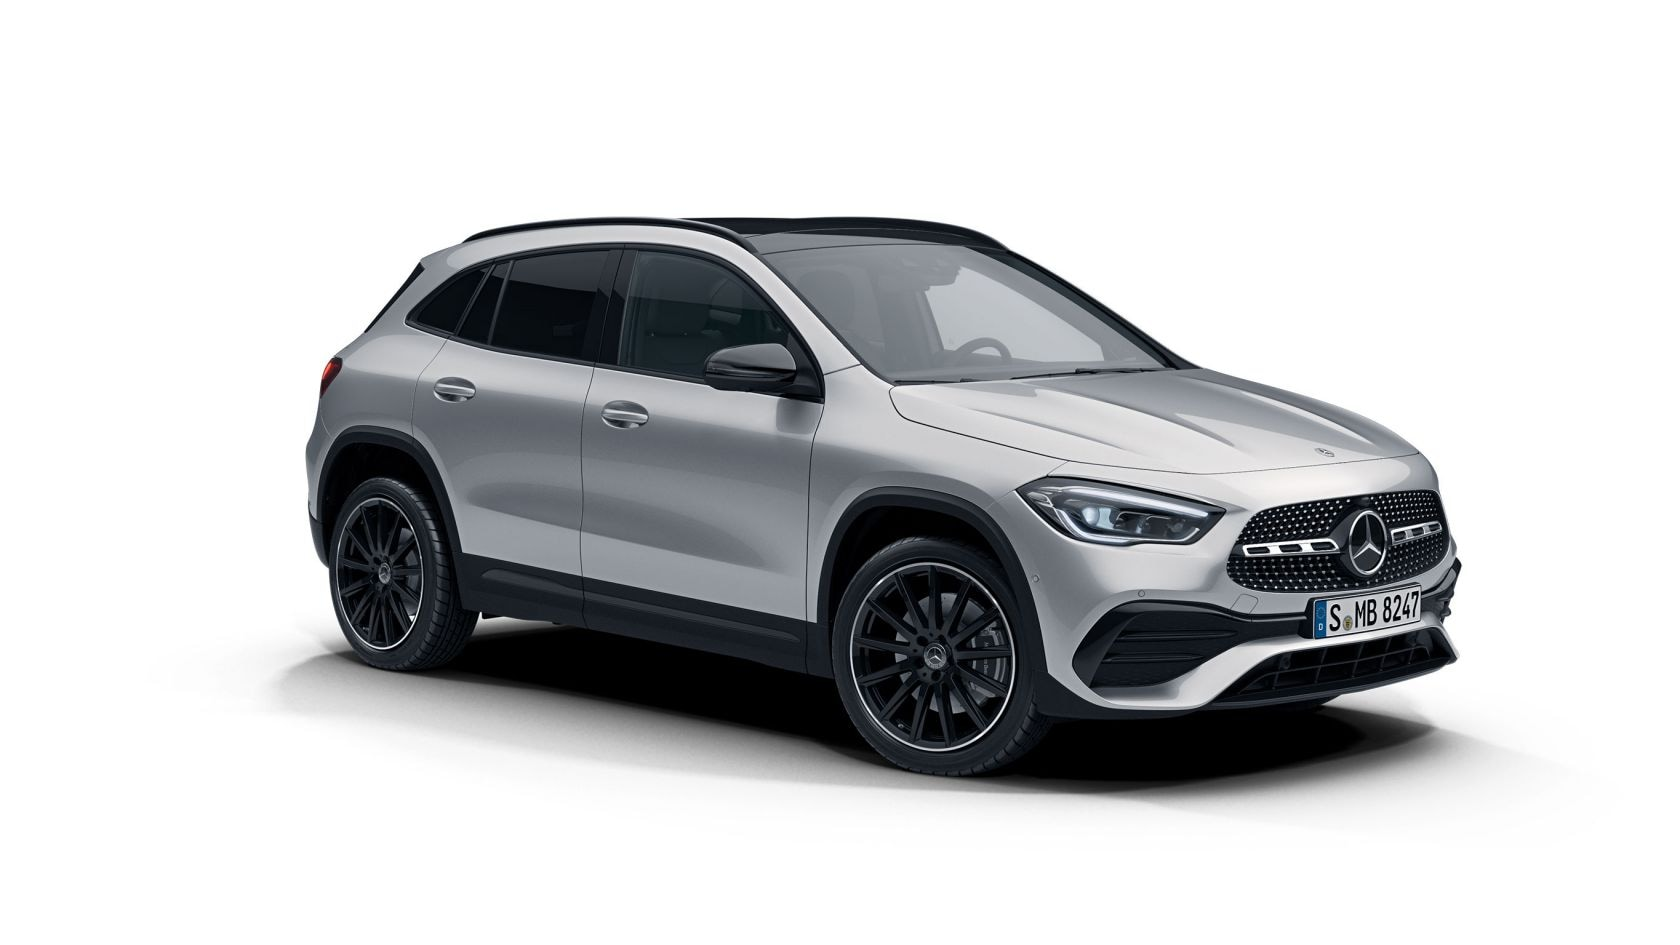car: (303, 213, 1458, 779)
